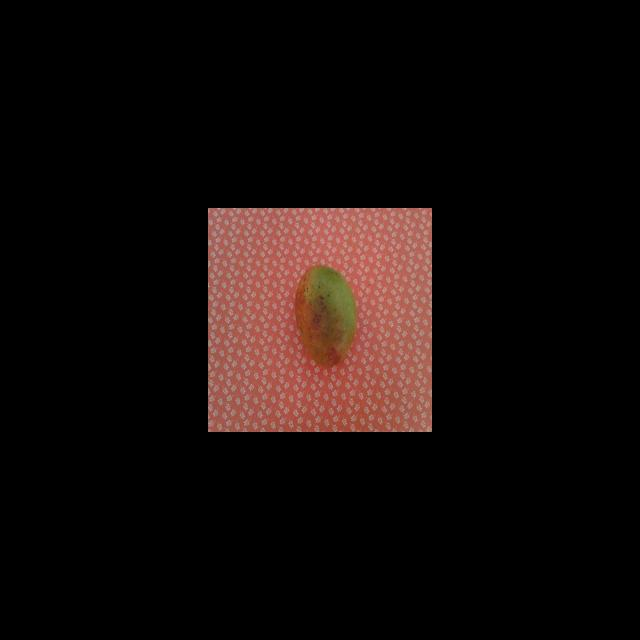Mango: (293, 264, 357, 368)
